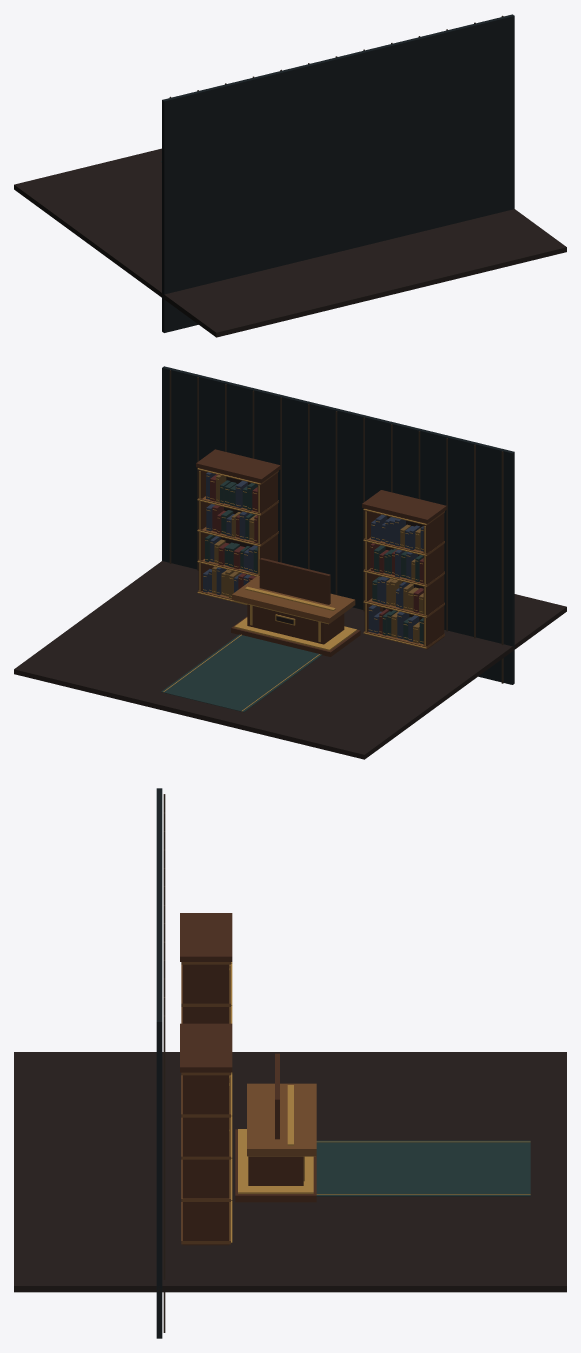
Rendered from ArchiveRoom.obj.
3 views of the same model, one above another, from view 1: azimuth 30°, elevation 25°; view 2: azimuth 150°, elevation 25°; view 3: azimuth 270°, elevation 25° (orthographic). The views are drawn at different scales.
Visible parts, largest first — view 1: ArchiveRoom; view 2: ArchiveRoom; view 3: ArchiveRoom.
Boxes of the visible parts, x1=… form: ArchiveRoom: x1=14, y1=14, x2=566, y2=337; ArchiveRoom: x1=14, y1=366, x2=566, y2=759; ArchiveRoom: x1=14, y1=788, x2=566, y2=1338.
Bounding box in the file's own units: 38 × 24 × 38.
1 material, 1 textured.
